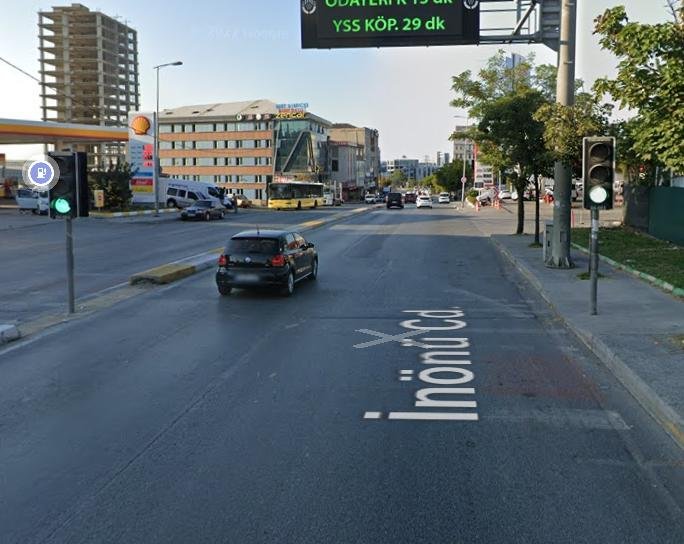greenlight: (585, 138, 613, 202)
park: (50, 159, 73, 216)
